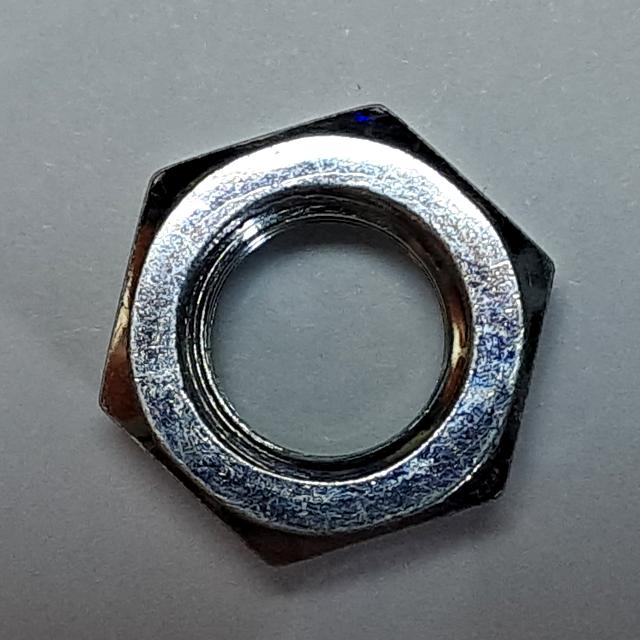Excellent: (89, 87, 578, 587)
